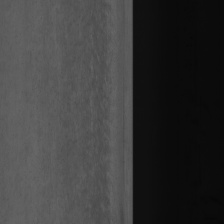silk_spot: (62, 135, 99, 198), (57, 37, 88, 107), (98, 64, 119, 134)
